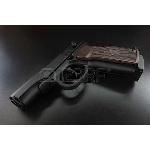Pistol: (9, 39, 144, 111)
